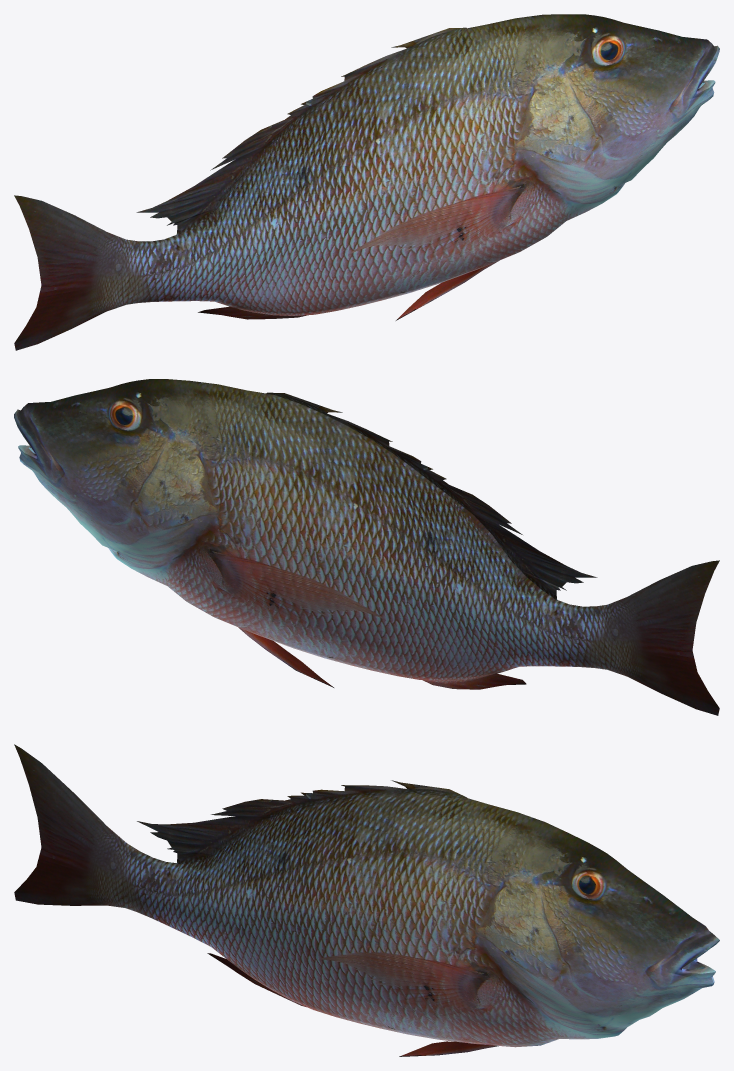
File: Ca_ro_phi.fbx
3 renders of one model, top to bottom at view 1: azimuth 30°, elevation 25°; view 2: azimuth 150°, elevation 25°; view 3: azimuth 330°, elevation 25°, orthographic.
Parts seen in each view (by area): view 1: Line01_02 - Default_0; view 2: Line01_02 - Default_0; view 3: Line01_02 - Default_0.
Part boxes in pixels (bbox=[...]): Line01_02 - Default_0: bbox=[14, 14, 719, 350]; Line01_02 - Default_0: bbox=[14, 379, 719, 715]; Line01_02 - Default_0: bbox=[14, 744, 719, 1056].
Size of the model in its own units: 164 by 62.4 by 16.95.
Materials: 1 (1 with a texture image).
